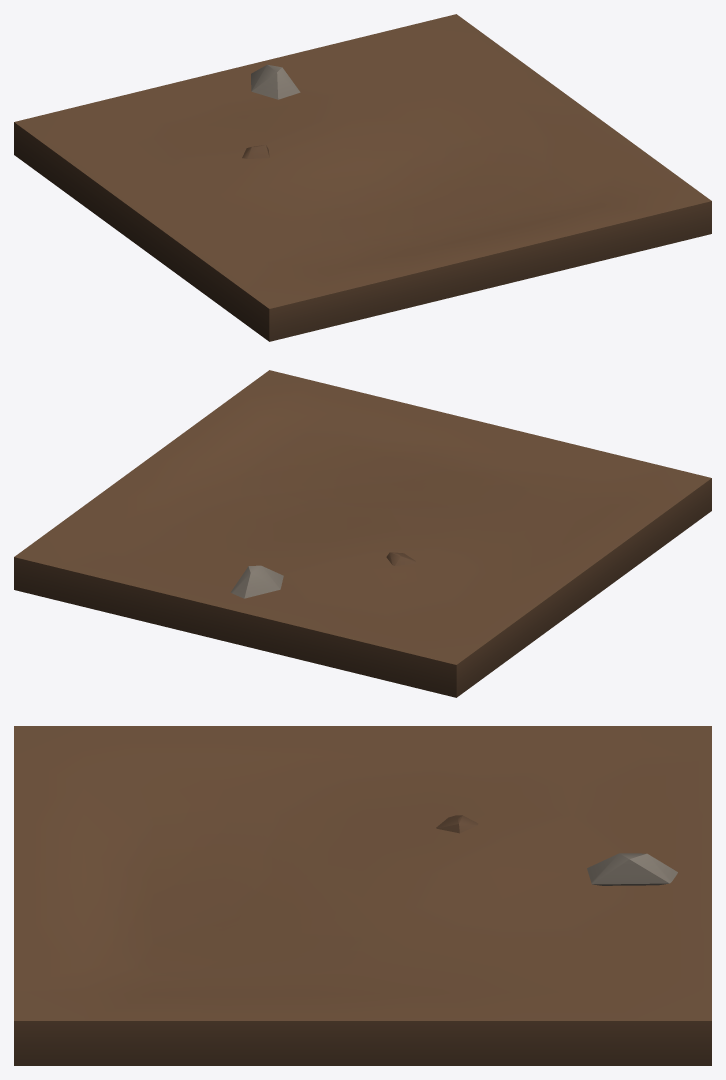
File: floor_earth_small_D.glb
3 views of the same model, one above another, from view 1: azimuth 30°, elevation 25°; view 2: azimuth 150°, elevation 25°; view 3: azimuth 270°, elevation 25° (orthographic). The views are drawn at different scales.
Visible parts, largest first — view 1: Item; view 2: Item; view 3: Item.
Boxes of the visible parts, x1=… form: Item: x1=14, y1=14, x2=711, y2=341; Item: x1=14, y1=370, x2=711, y2=697; Item: x1=14, y1=726, x2=711, y2=1065.
Bounding box in the file's own units: 2 × 0.2227 × 2.
1 material, 1 textured.
